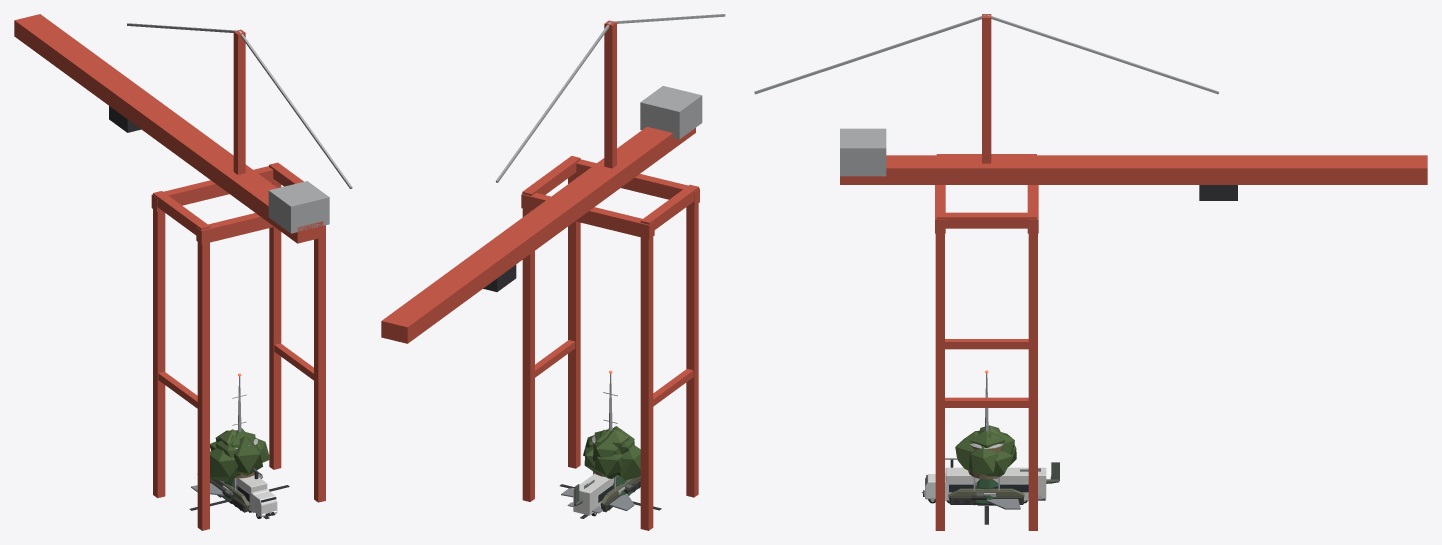
Rendered from props.glb.
The picture shows the model from 3 angles, left to right: view 1: azimuth 30°, elevation 25°; view 2: azimuth 150°, elevation 25°; view 3: azimuth 270°, elevation 25°; orthographic projection. The views are drawn at different scales.
Parts seen in each view (by area): view 1: crane_crane, crane_metal, tree_round_leaf, car_truck_paint; view 2: crane_crane, crane_metal, tree_round_leaf, car_truck_trailer, mil_jet_jet; view 3: crane_crane, crane_metal, tree_round_leaf, car_truck_trailer.
Boxes of the visible parts, <box> form: crane_crane: <box>14,14,325,530</box>; crane_metal: <box>127,23,352,233</box>; tree_round_leaf: <box>210,430,270,482</box>; car_truck_paint: <box>253,491,277,516</box>; crane_crane: <box>381,20,699,530</box>; crane_metal: <box>496,14,725,182</box>; tree_round_leaf: <box>583,426,640,480</box>; car_truck_trailer: <box>573,473,613,515</box>; mil_jet_jet: <box>561,479,634,513</box>; crane_crane: <box>840,14,1427,530</box>; crane_metal: <box>754,14,1219,176</box>; tree_round_leaf: <box>955,428,1016,478</box>; car_truck_trailer: <box>945,467,1046,498</box>.
Size of the model in its own units: 19.5 by 70.44 by 87.05.
